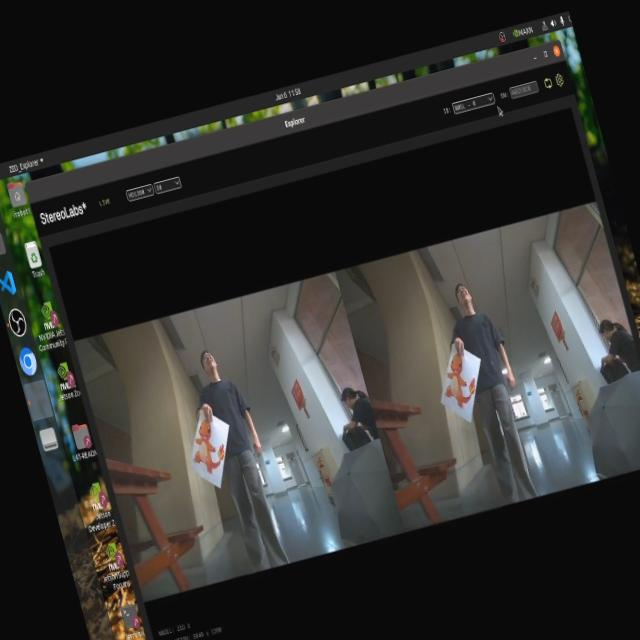red: (434, 335, 488, 416), (182, 409, 236, 486)
